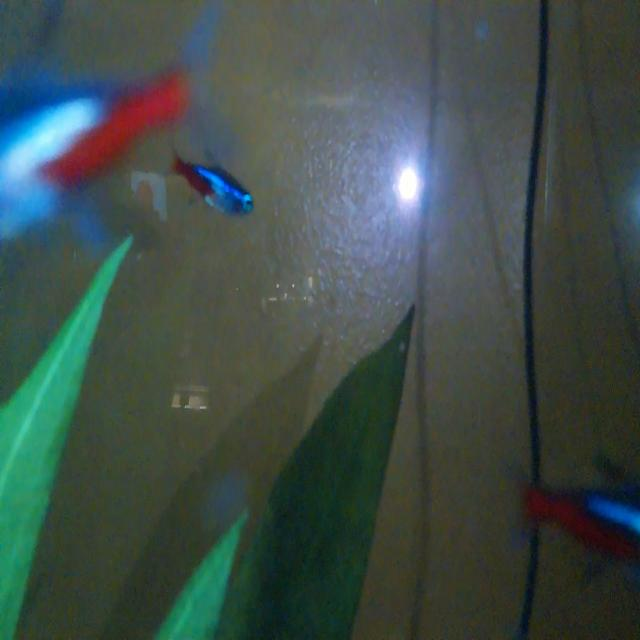fish: (158, 135, 257, 226)
